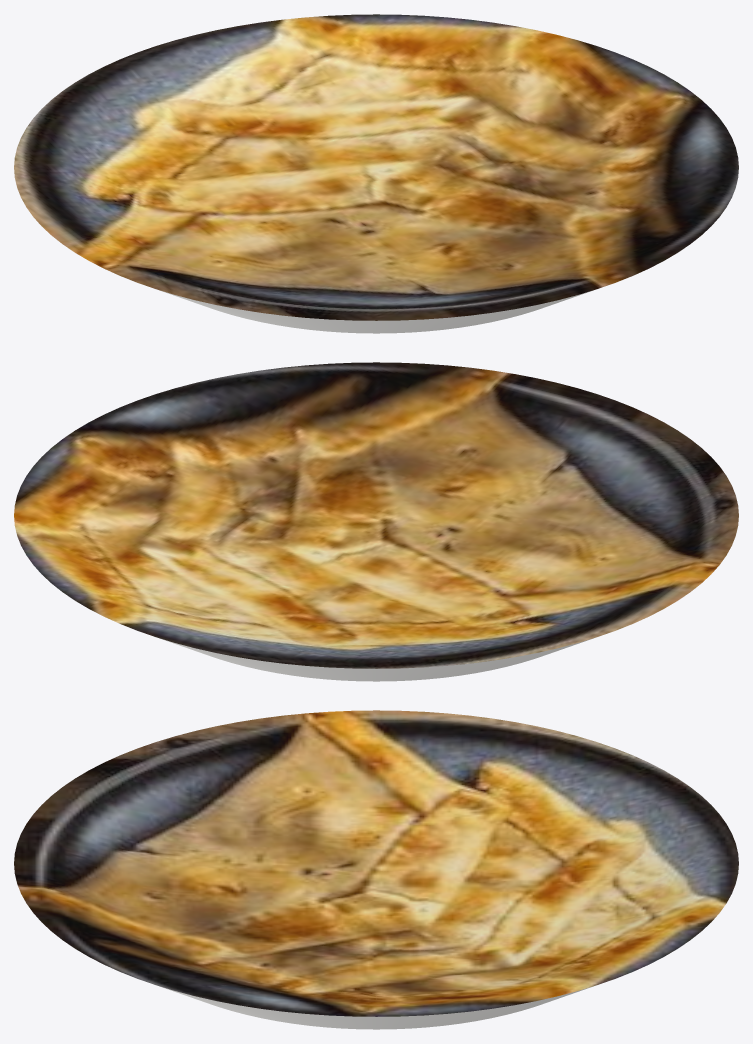
Rendered from empanadas.glb.
3 renders of one model, top to bottom at view 1: azimuth 30°, elevation 25°; view 2: azimuth 150°, elevation 25°; view 3: azimuth 270°, elevation 25°, orthographic.
Parts seen in each view (by area): view 1: plato; view 2: plato; view 3: plato.
Boxes of the visible parts, <box> form: plato: <box>14,14,738,333</box>; plato: <box>14,362,738,681</box>; plato: <box>14,710,738,1029</box>.
Size of the model in its own units: 0.26 by 0.022 by 0.26.
2 materials, 1 textured.
